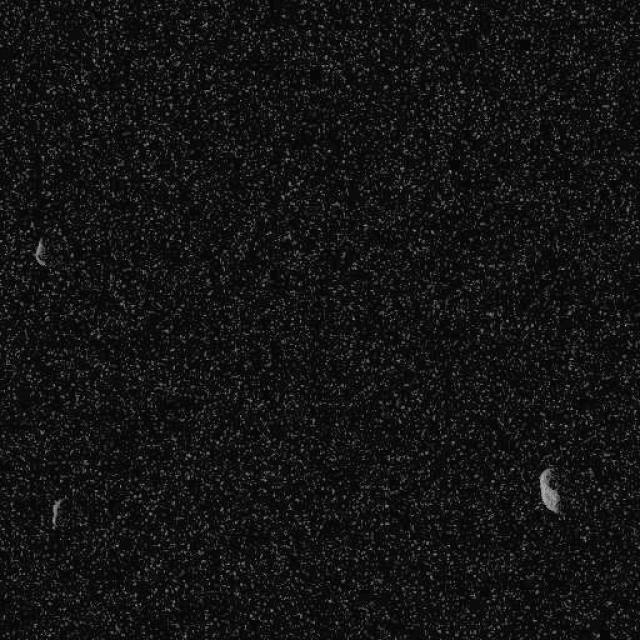D2: (538, 466, 562, 514), (32, 235, 48, 267), (48, 498, 62, 528)
